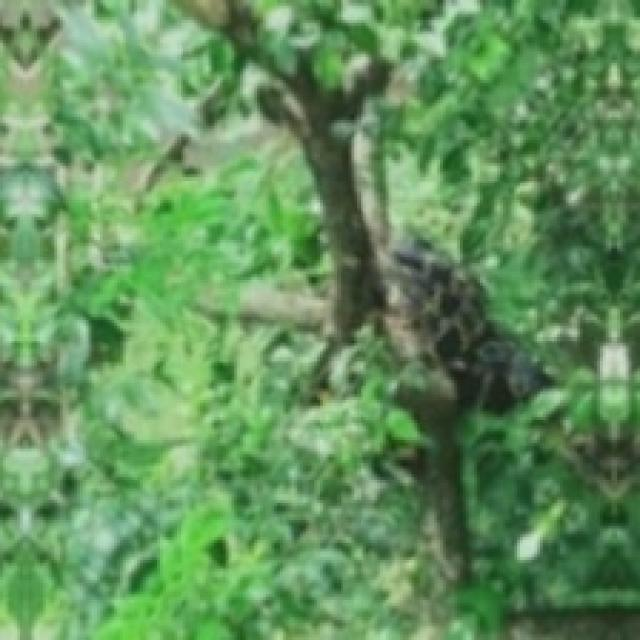mangrove cat snake: (377, 246, 543, 409), (383, 246, 543, 409)
